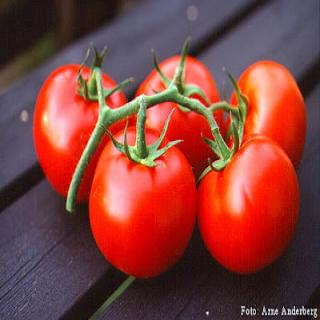Tomat: (196, 78, 301, 275), (88, 94, 199, 280)
